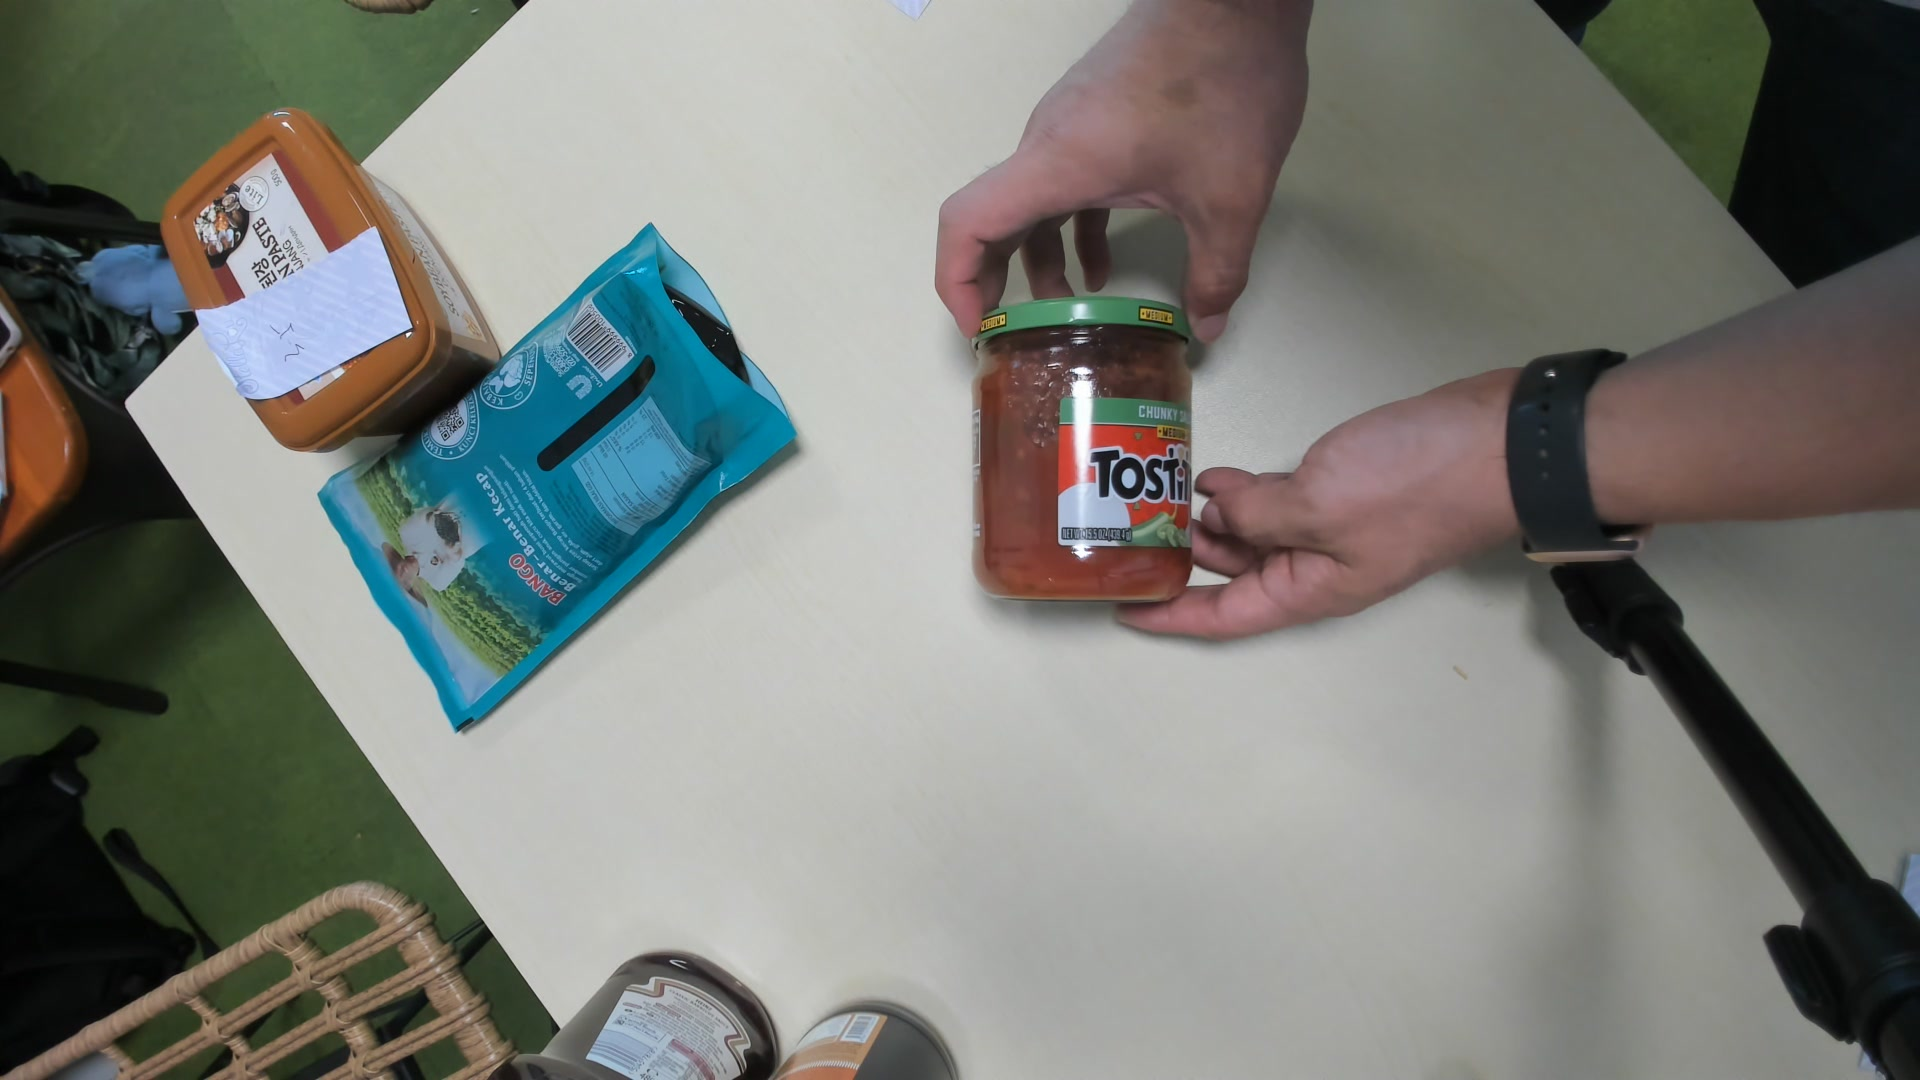OtherSauceDressing_400-499g_NonHalal_NonHealthy: (973, 295, 1199, 607)
